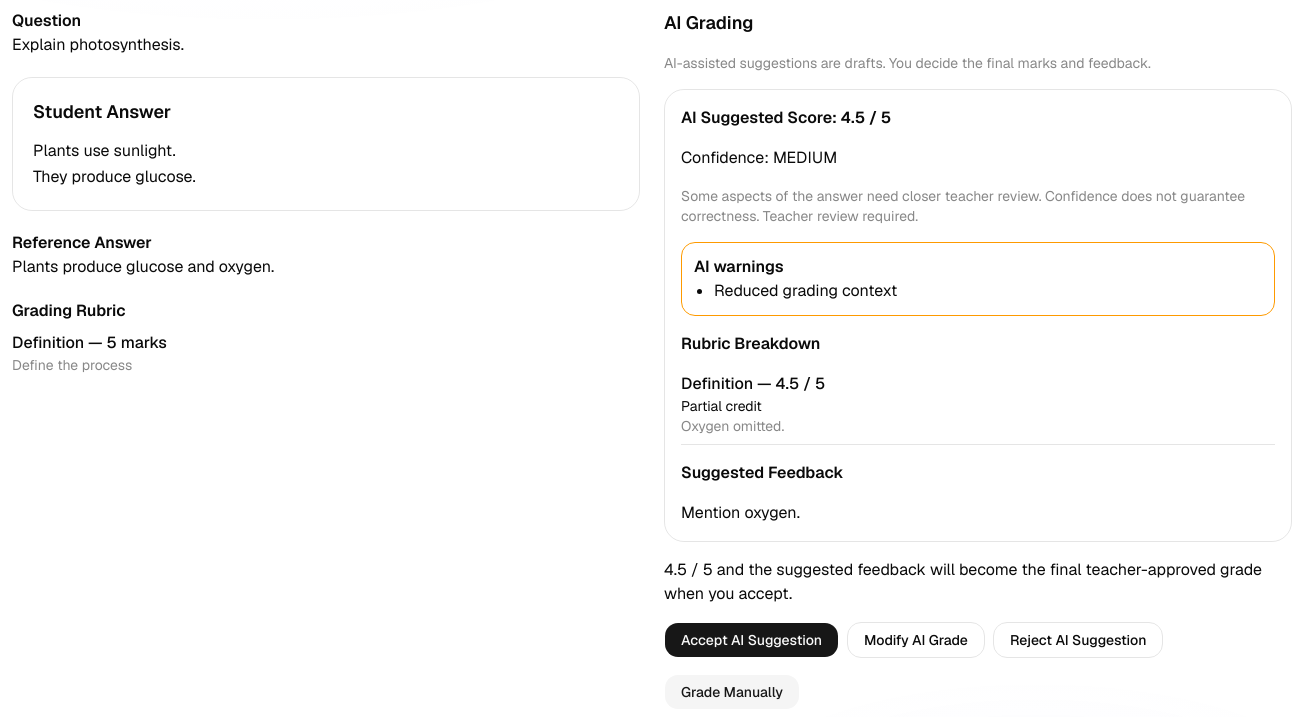
Test: can leave manual editing to accept an AI proposal
Click the button "Grade Manually".
click(732, 692)  # box [664,674,800,710]
(page scrolled)
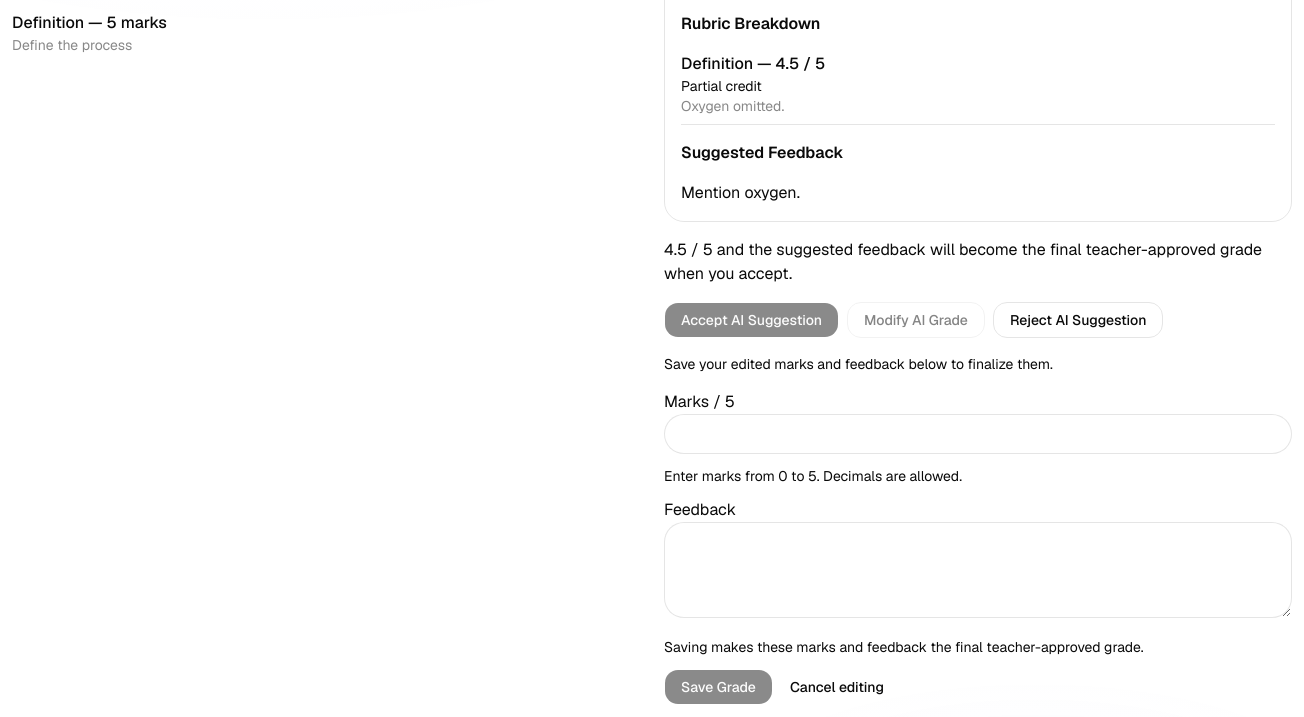
Type "4" into the number field labelled "Marks / 5".
click(978, 434); type("4")  # box [664,414,1292,454]
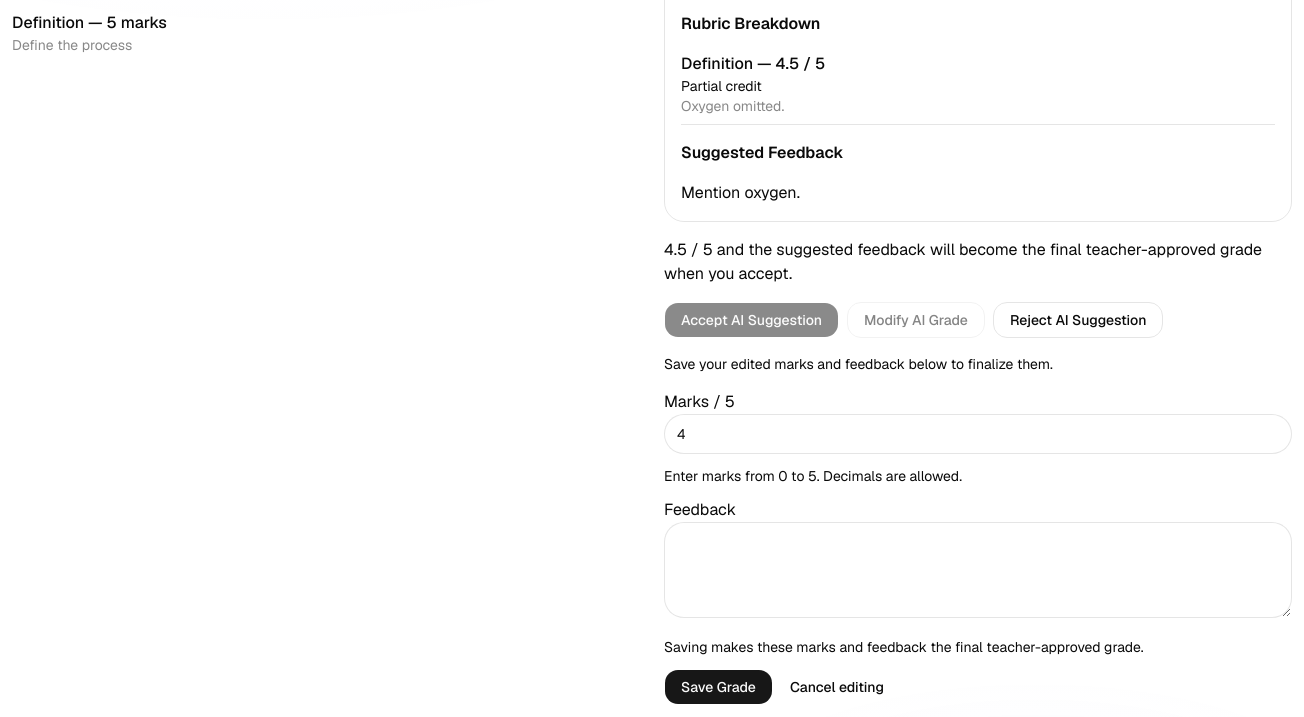
Type "Teacher feedback" into the text box labelled "Feedback".
click(978, 570); type("Teacher feedback")  # box [664,522,1292,618]
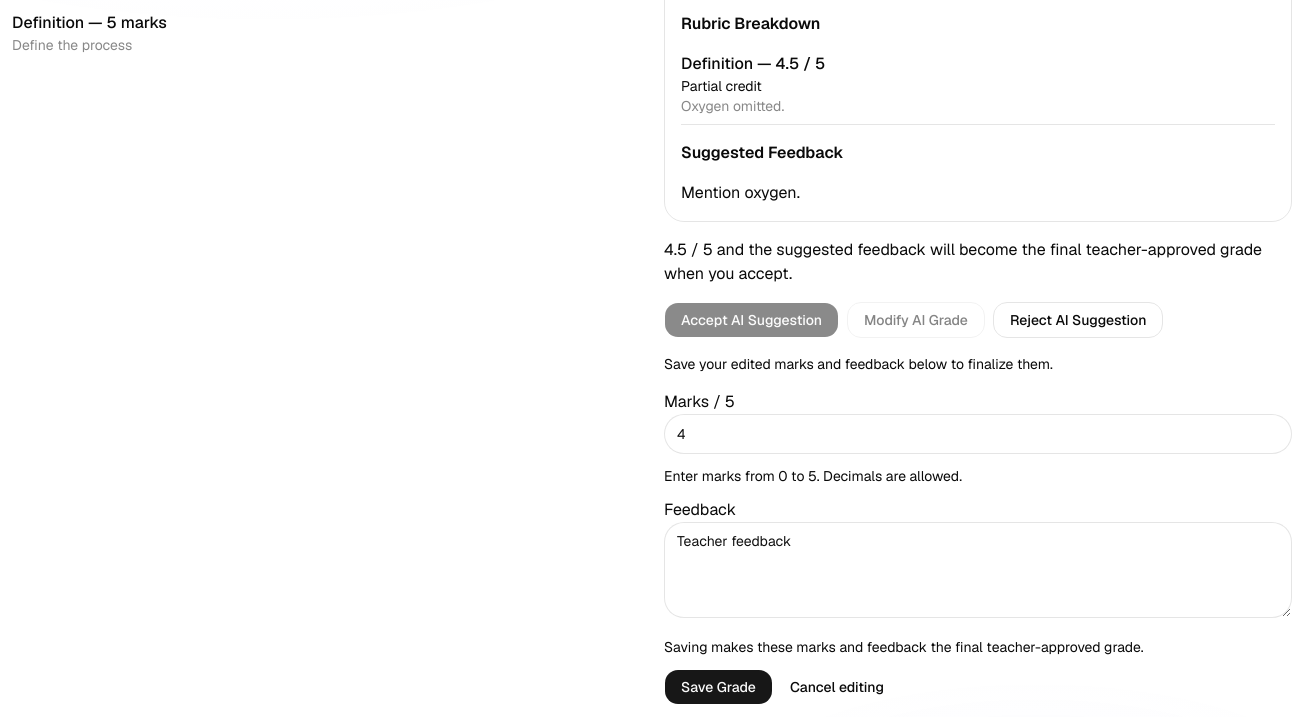
expect the button "Accept AI Suggestion" is disabled: met, box [664,302,839,338]
Click the button "Cancel editing".
click(837, 687)  # box [773,669,901,705]
(page scrolled)
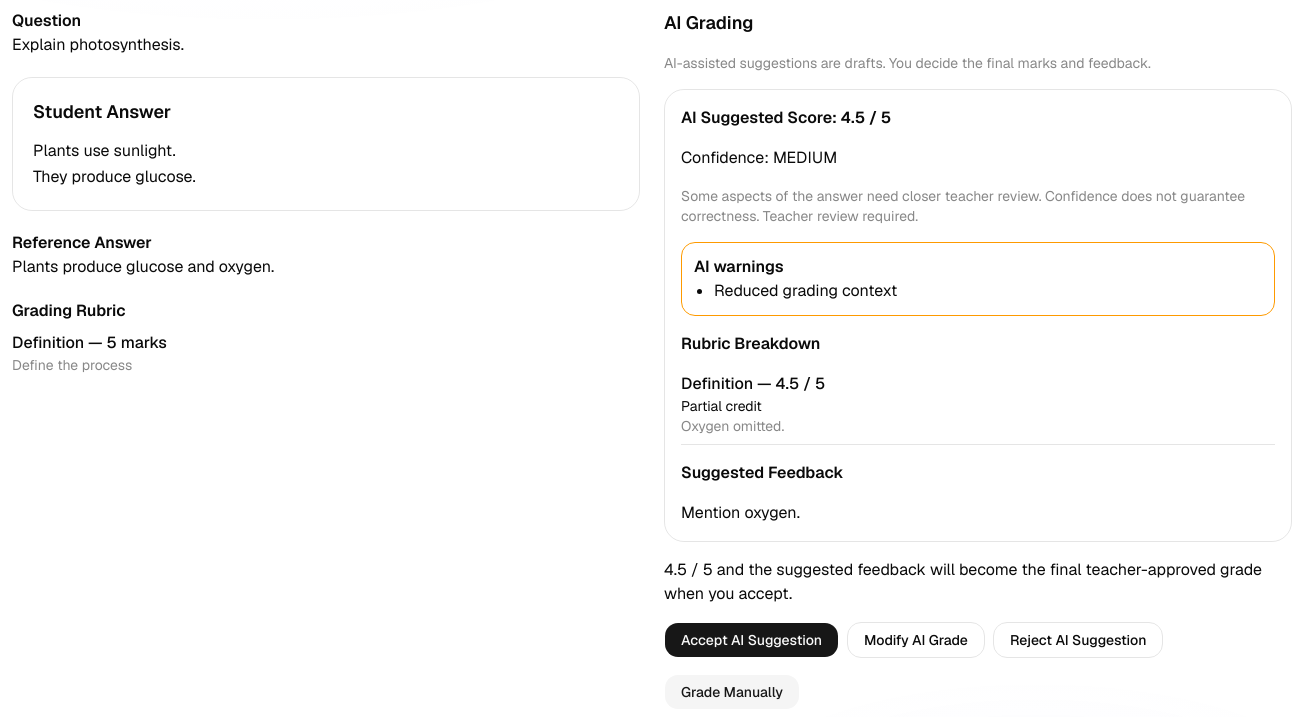
Click the button "Accept AI Suggestion".
click(752, 640)  # box [664,622,839,658]
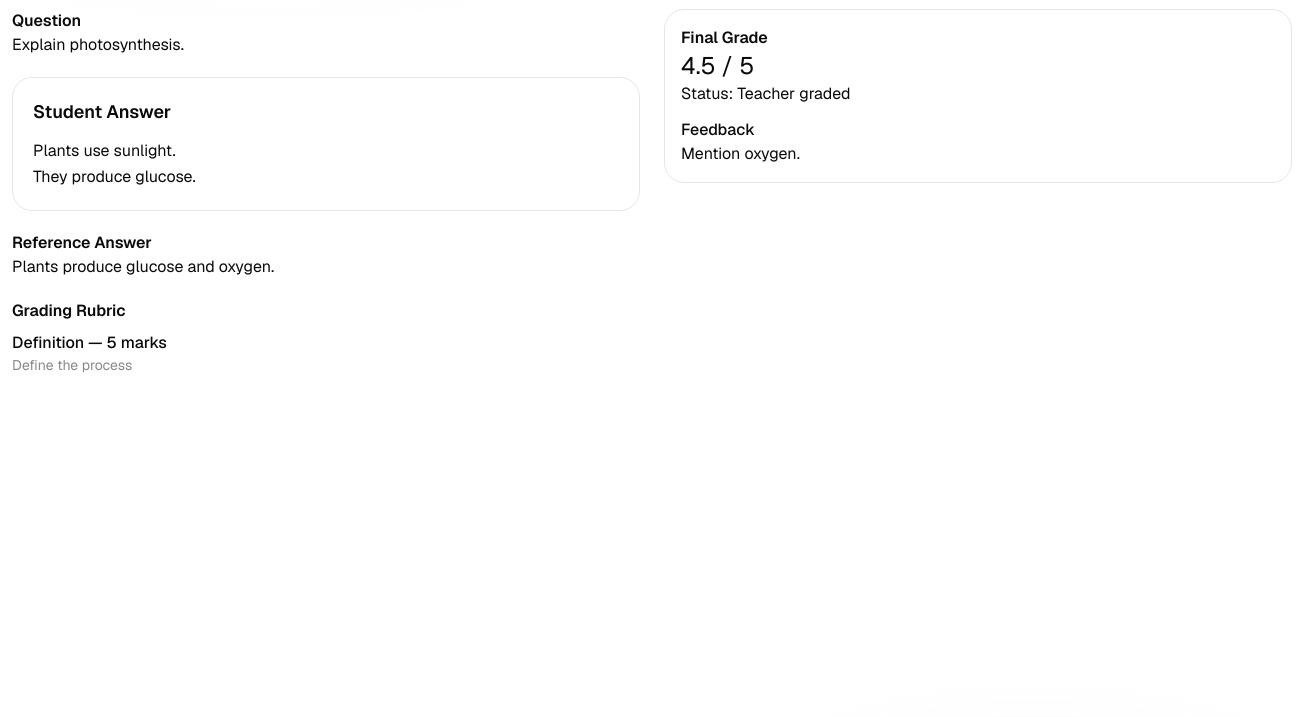
expect the heading "Final Grade" is shown: met, box [681,27,768,48]
